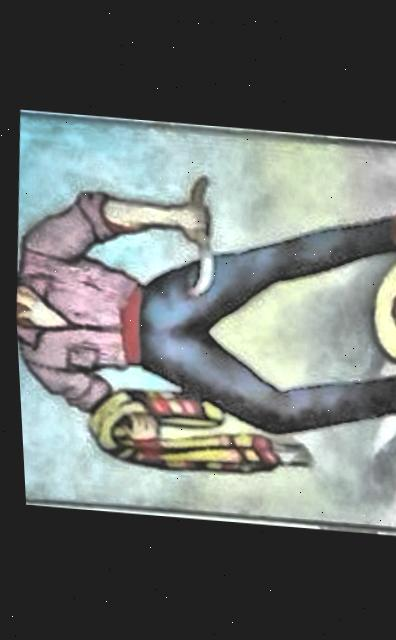El Valiente: (5, 113, 396, 527)
